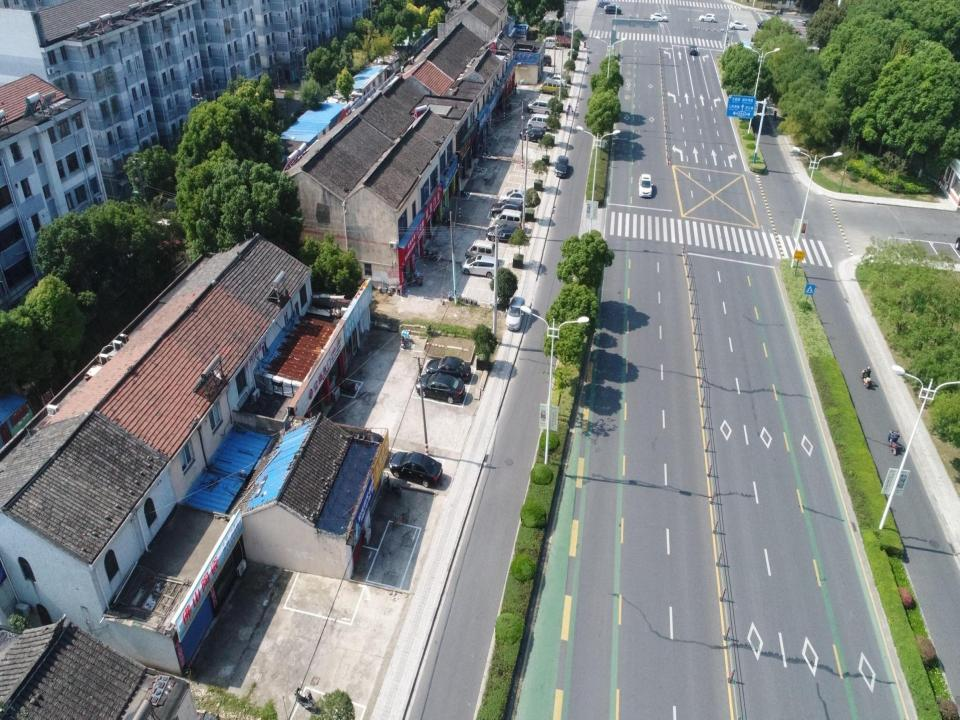car: (387, 450, 444, 488), (416, 371, 466, 405), (423, 355, 474, 385), (505, 294, 526, 330), (485, 225, 521, 245), (492, 198, 521, 218), (519, 126, 545, 142), (500, 190, 526, 205), (553, 155, 569, 178), (781, 22, 802, 36), (802, 18, 825, 28), (730, 20, 749, 32), (757, 19, 779, 29), (545, 75, 566, 85), (650, 12, 668, 22), (698, 12, 715, 22), (604, 5, 621, 15), (689, 43, 698, 57), (543, 55, 551, 65)
van: (460, 257, 499, 281), (464, 239, 495, 260), (494, 207, 522, 226), (527, 112, 553, 132), (526, 98, 554, 116), (638, 173, 653, 199), (539, 79, 558, 95), (542, 36, 557, 49)
